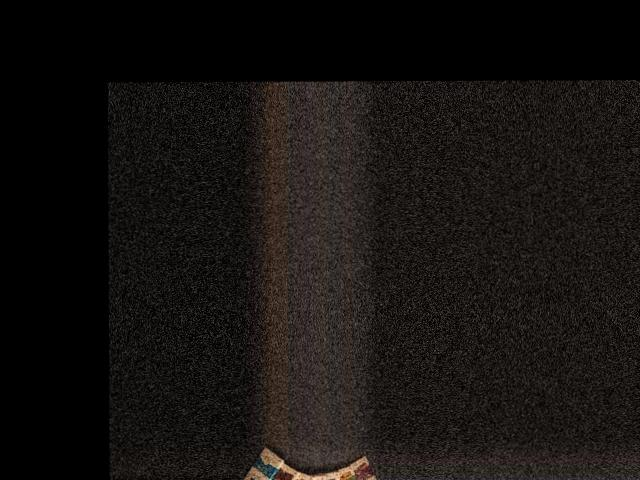chocolate: (243, 443, 284, 480)
